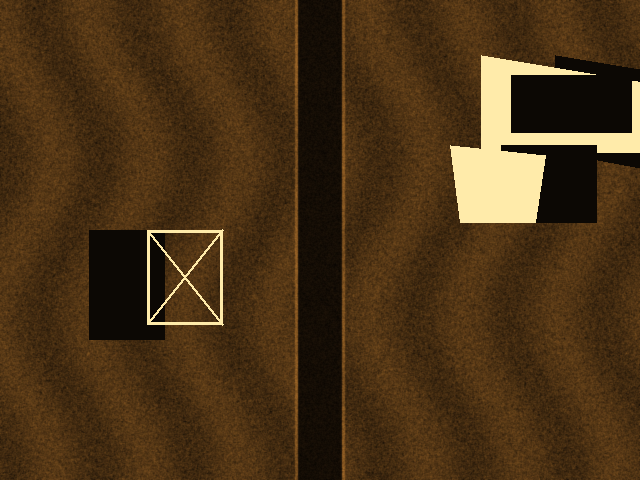Abandoned Equipment: (147, 230, 222, 324)
Other Man-made Debris: (450, 145, 545, 222)
Ship/Boat Debris: (481, 55, 640, 152)
